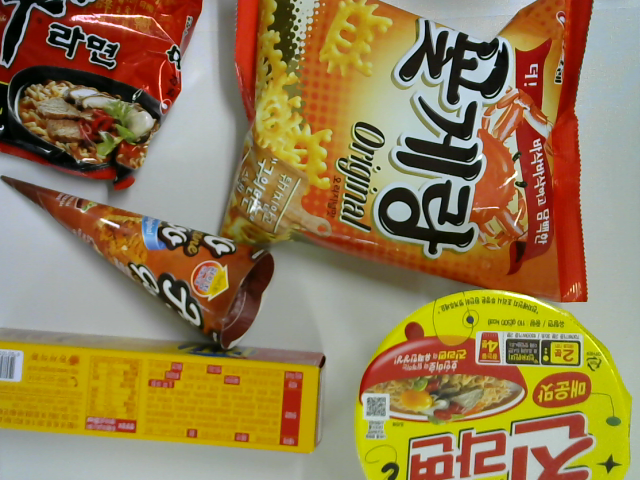Crabrang: (216, 1, 595, 304)
GooGoo_Cone_CVS: (1, 176, 278, 353)
Jinlamyeon_Hot_Taste_Large_Cup: (353, 286, 640, 480)
Ritz_Sand_Cracker: (1, 326, 329, 455)
Sinramen: (1, 1, 204, 194)
